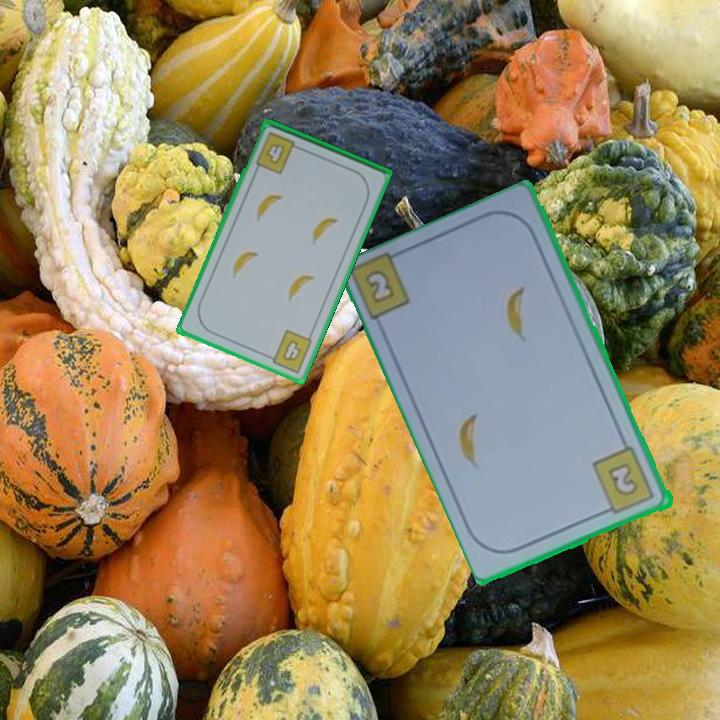2b: (589, 443, 659, 518), (365, 269, 395, 303)
4b: (262, 326, 315, 376), (252, 128, 305, 177)
